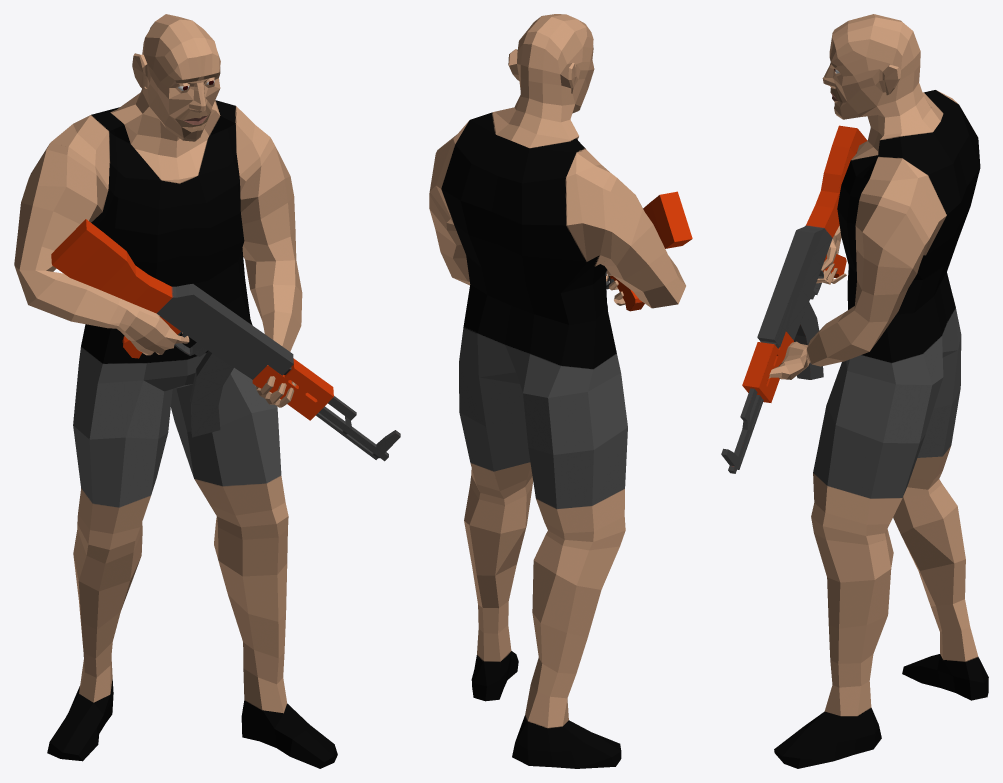
File: PlayerIdle(229).obj
3 renders of one model, left to right at view 1: azimuth 30°, elevation 25°; view 2: azimuth 150°, elevation 25°; view 3: azimuth 270°, elevation 25°, orthographic. The views are drawn at different scales.
Visible parts, largest first — view 1: Plane002, Object001; view 2: Plane002, Object001; view 3: Plane002, Object001.
Part boxes in pixels (x1,y1,x2,y2): Plane002: [14, 14, 337, 768]; Object001: [51, 219, 400, 461]; Plane002: [429, 14, 685, 768]; Object001: [605, 191, 692, 311]; Plane002: [768, 14, 988, 768]; Object001: [721, 125, 867, 473].
Size of the model in its own units: 743 by 1805 by 628.
